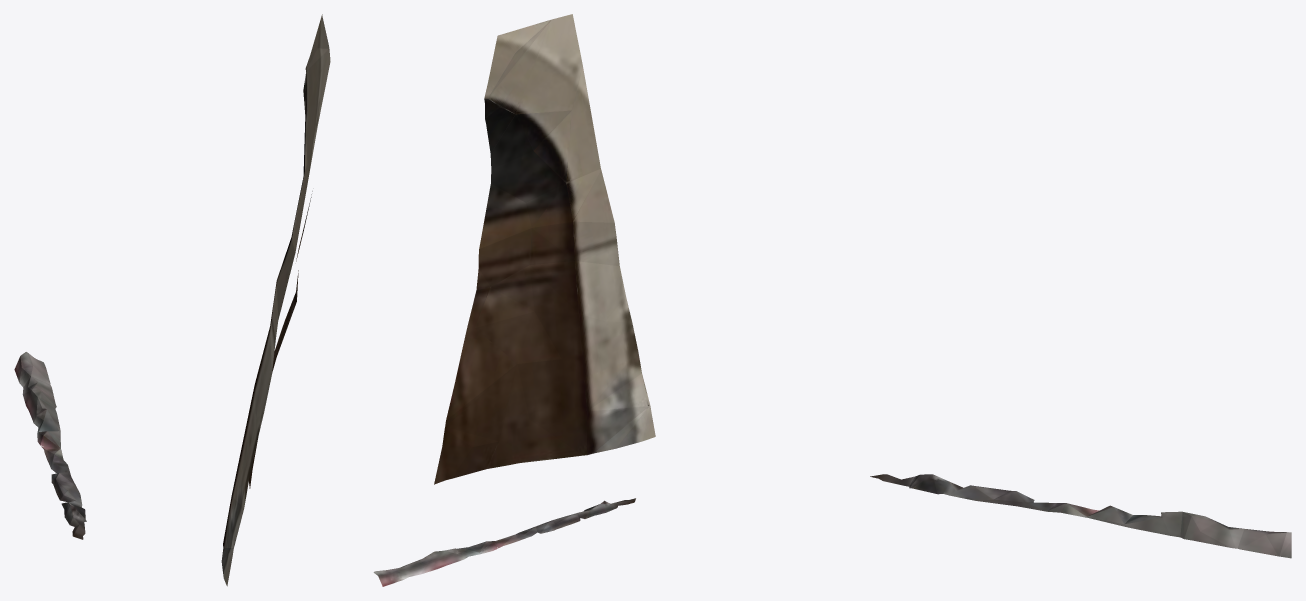
3 views of the same model, side by side, from view 1: azimuth 30°, elevation 25°; view 2: azimuth 150°, elevation 25°; view 3: azimuth 270°, elevation 25° (orthographic). The views are drawn at different scales.
Size of the model in its own units: 0.7353 by 1.67 by 1.67.
1 material, 1 textured.
